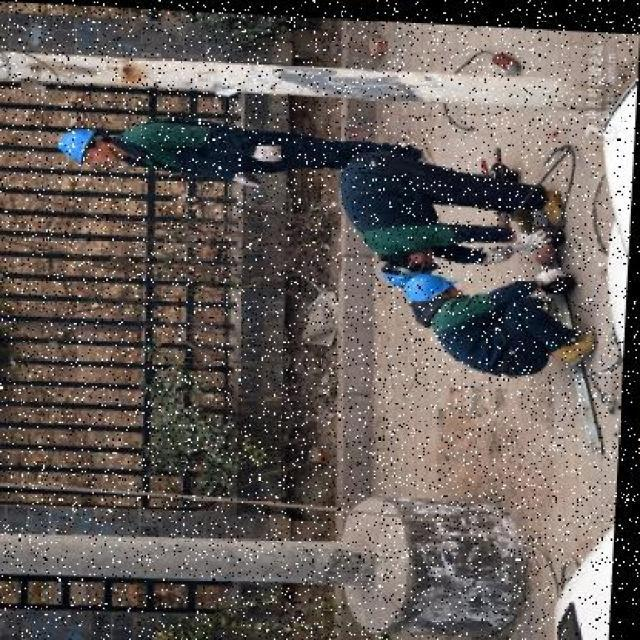helmet: (400, 261, 464, 297), (52, 122, 94, 164)
